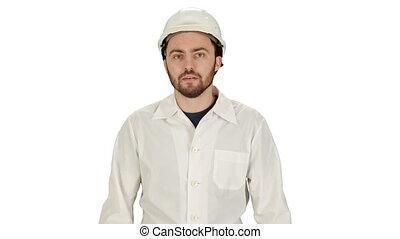helmet: (156, 7, 228, 46)
